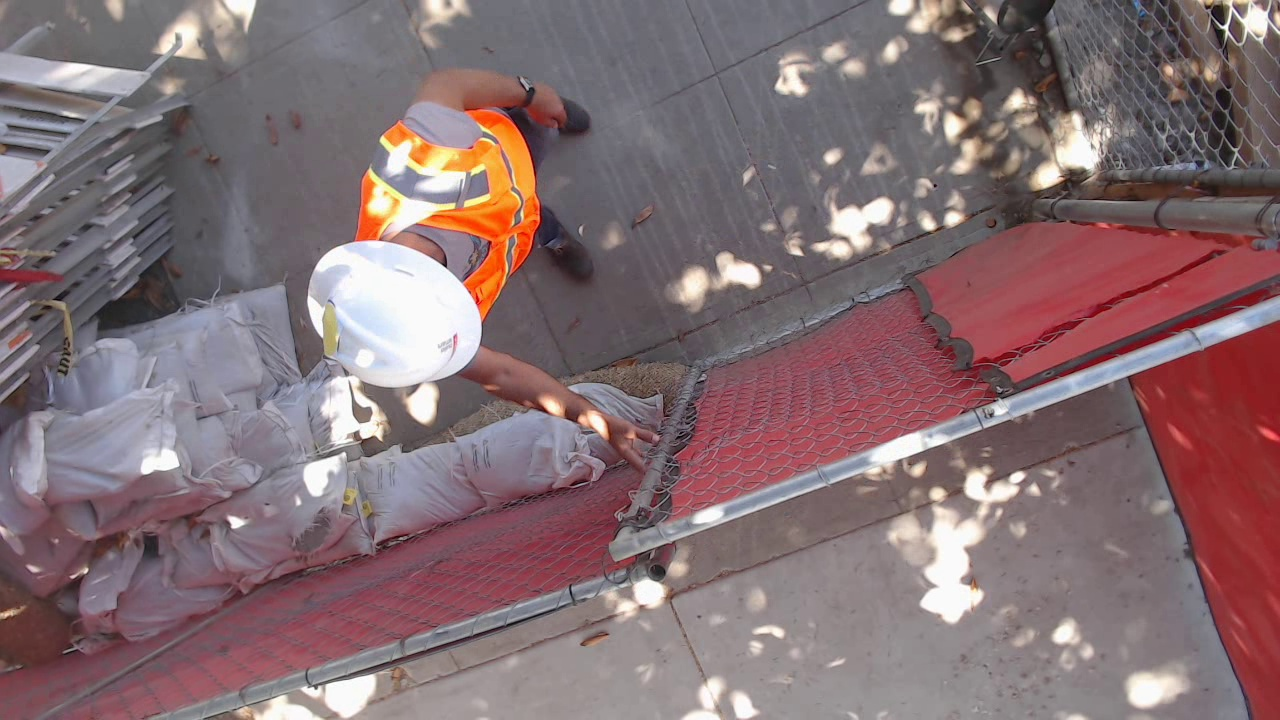person: (816, 442, 1117, 719)
safetyvest: (887, 653, 1076, 720)
